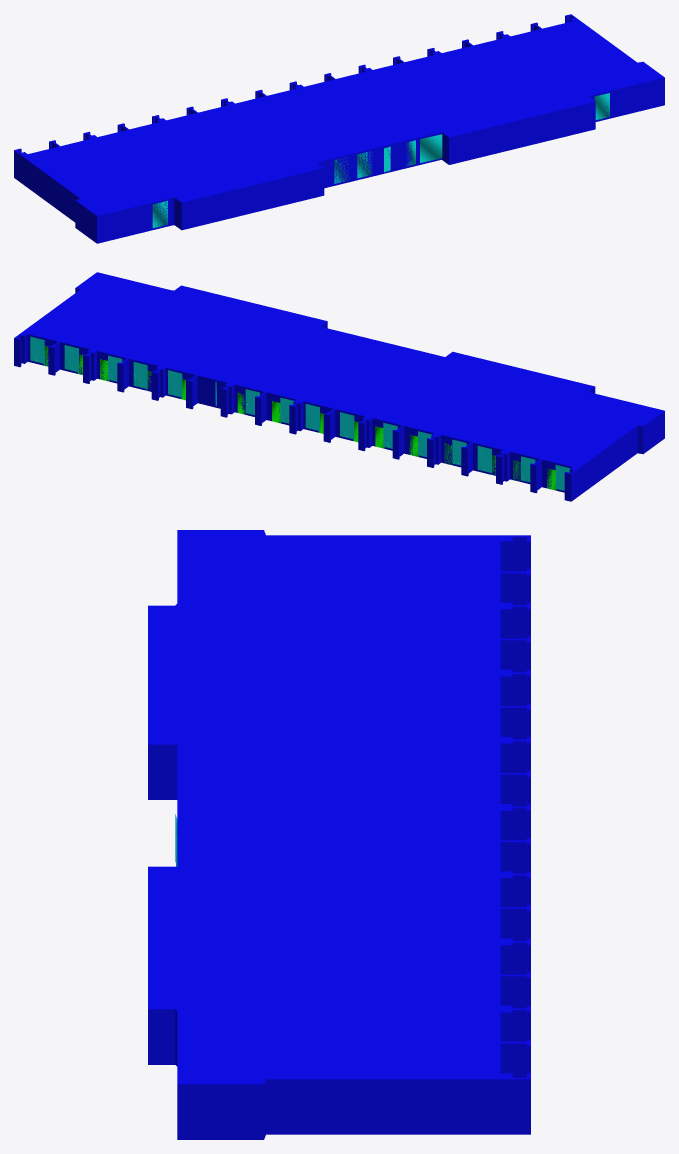
3 renders of one model, top to bottom at view 1: azimuth 30°, elevation 25°; view 2: azimuth 150°, elevation 25°; view 3: azimuth 270°, elevation 25°, orthographic. The views are drawn at different scales.
Parts seen in each view (by area): view 1: group_out_solid_mesh, group_out_windows_mesh; view 2: group_out_solid_mesh, group_out_windows_mesh, group_out_door_mesh; view 3: group_out_solid_mesh.
Part boxes in pixels (<box>): group_out_solid_mesh: <box>14,14,664,243</box>; group_out_windows_mesh: <box>152,93,609,228</box>; group_out_solid_mesh: <box>14,272,664,501</box>; group_out_windows_mesh: <box>30,336,569,490</box>; group_out_door_mesh: <box>43,345,556,490</box>; group_out_solid_mesh: <box>148,530,530,1139</box>.
Size of the model in its own units: 64349 by 3000 by 18799.
